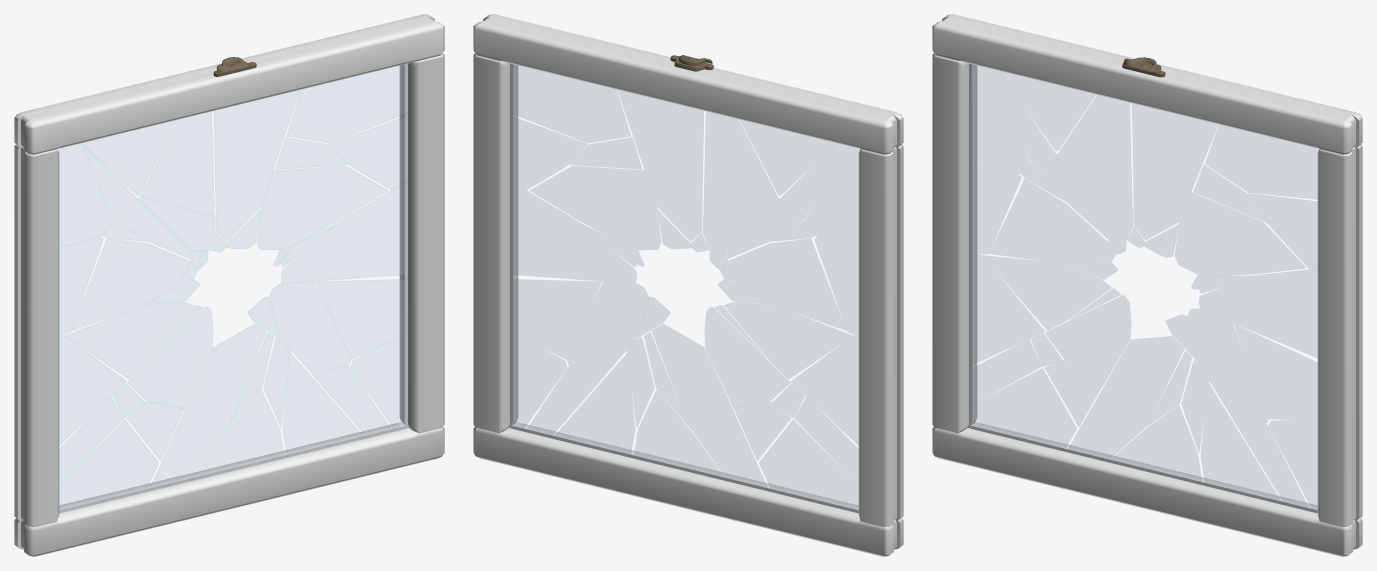
Rendered from GlassBrokenWindow.glb.
The picture shows the model from 3 angles, left to right: view 1: azimuth 30°, elevation 25°; view 2: azimuth 150°, elevation 25°; view 3: azimuth 330°, elevation 25°; orthographic projection.
Parts seen in each view (by area): view 1: WindowsGlass, WindowFrame, WindowClasp; view 2: WindowsGlass, WindowFrame, WindowClasp; view 3: WindowsGlass, WindowFrame, WindowClasp.
Part boxes in pixels (box(x1,y1,x2,y2)): WindowsGlass: box(58, 64, 408, 512); WindowFrame: box(14, 14, 444, 556); WindowClasp: box(213, 57, 256, 76); WindowsGlass: box(509, 64, 859, 512); WindowFrame: box(473, 14, 903, 556); WindowClasp: box(670, 55, 713, 71); WindowsGlass: box(968, 64, 1318, 512); WindowFrame: box(932, 14, 1362, 556); WindowClasp: box(1122, 57, 1165, 77).
Bounding box in the file's own units: 0.508 × 0.5165 × 0.0381.
Materials: 3 (1 with a texture image).
